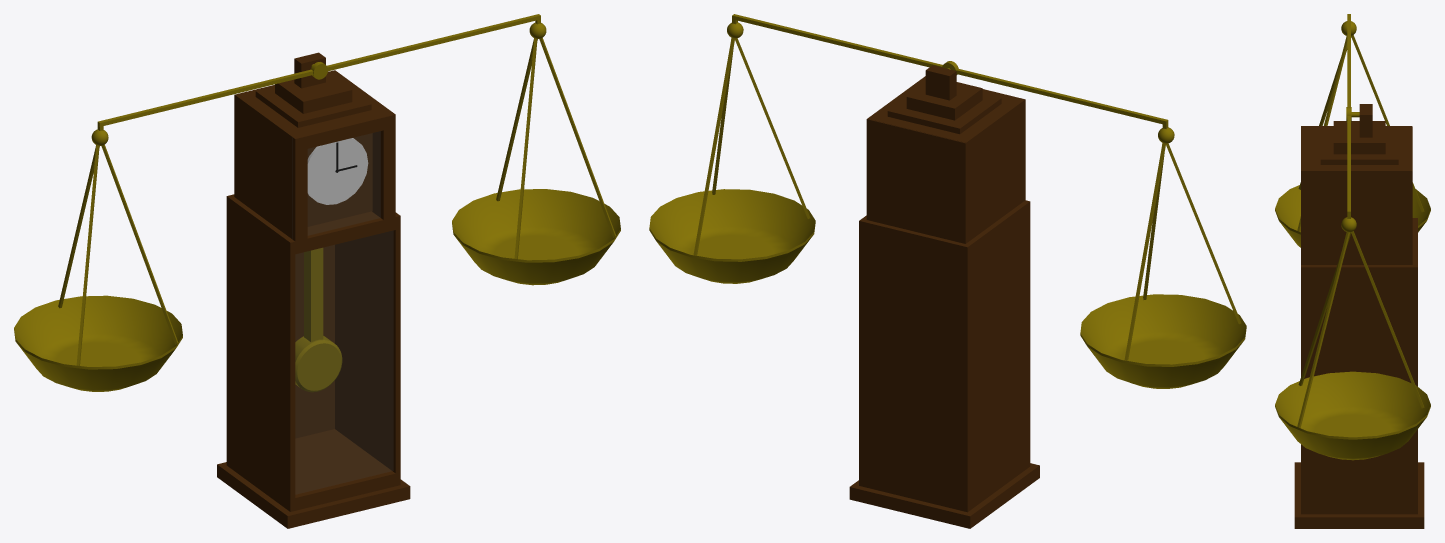
File: Balance.fbx
3 views of the same model, side by side, from view 1: azimuth 30°, elevation 25°; view 2: azimuth 150°, elevation 25°; view 3: azimuth 270°, elevation 25° (orthographic). The views are drawn at different scales.
Visible parts, largest first — view 1: pCube28, pCube3, pCube4, pCylinder8, pCylinder9, pCube8, pCube1, pCube29, pCube5, pCube2, pCube15, pCube6 (+14 smaller); view 2: pCube5, pCube3, pCylinder8, pCylinder9, pCube10, pCube8, pCube2, pCube19, pCube1, pCube15, pCube17, pCube16 (+6 smaller); view 3: pCube4, pCylinder8, pCube9, pCube15, pCube2, pCube17, pCube1, pCube16, pCylinder9, pCube23, pCube5, pCube19 (+8 smaller).
Boxes of the visible parts, <box> form: pCube28: <box>295,231,393,493</box>; pCube3: <box>226,198,295,498</box>; pCube4: <box>335,212,400,473</box>; pCylinder8: <box>452,189,620,285</box>; pCylinder9: <box>14,295,182,391</box>; pCube8: <box>234,94,307,241</box>; pCube1: <box>226,429,400,511</box>; pCube29: <box>308,131,380,235</box>; pCube5: <box>226,194,334,453</box>; pCube2: <box>217,462,410,528</box>; pCube15: <box>235,70,395,148</box>; pCube6: <box>226,194,400,255</box>; pCube5: <box>859,219,970,499</box>; pCube3: <box>963,201,1030,497</box>; pCylinder8: <box>649,189,815,283</box>; pCylinder9: <box>1080,294,1246,388</box>; pCube10: <box>866,119,972,243</box>; pCube8: <box>954,100,1025,243</box>; pCube2: <box>849,463,1039,528</box>; pCube19: <box>732,14,1168,124</box>; pCube1: <box>859,454,1030,512</box>; pCube15: <box>867,76,1025,142</box>; pCube17: <box>887,93,1001,134</box>; pCube16: <box>906,82,982,120</box>; pCube4: <box>1301,265,1417,502</box>; pCylinder8: <box>1275,371,1430,460</box>; pCube9: <box>1301,165,1412,264</box>; pCube15: <box>1301,126,1411,182</box>; pCube2: <box>1294,462,1424,528</box>; pCube17: <box>1320,126,1398,164</box>; pCube1: <box>1301,502,1417,514</box>; pCube16: <box>1333,121,1385,154</box>; pCylinder9: <box>1275,185,1430,247</box>; pCube23: <box>1297,232,1350,428</box>; pCube5: <box>1412,218,1417,502</box>; pCube19: <box>1347,14,1350,211</box>.
Bounding box in the file's own units: 23.87 × 16.74 × 6.
